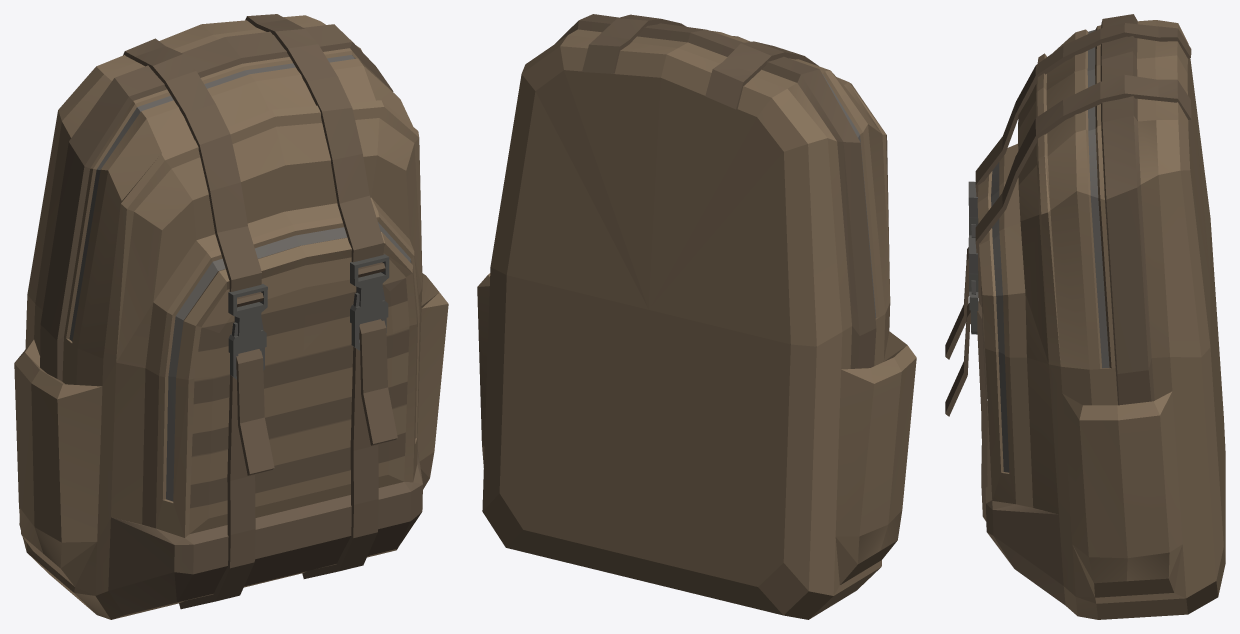
File: BackPack_01_SM.FBX
3 views of the same model, side by side, from view 1: azimuth 30°, elevation 25°; view 2: azimuth 150°, elevation 25°; view 3: azimuth 270°, elevation 25° (orthographic). The views are drawn at different scales.
Visible parts, largest first — view 1: BackPack_01_SM; view 2: BackPack_01_SM; view 3: BackPack_01_SM.
Boxes of the visible parts, left/top/right/bottom form: BackPack_01_SM: left=14, top=14, right=448, bottom=619; BackPack_01_SM: left=477, top=14, right=916, bottom=619; BackPack_01_SM: left=945, top=14, right=1225, bottom=619.
Size of what is drawn, in the model's own units: 37.3 by 23.76 by 47.15.
